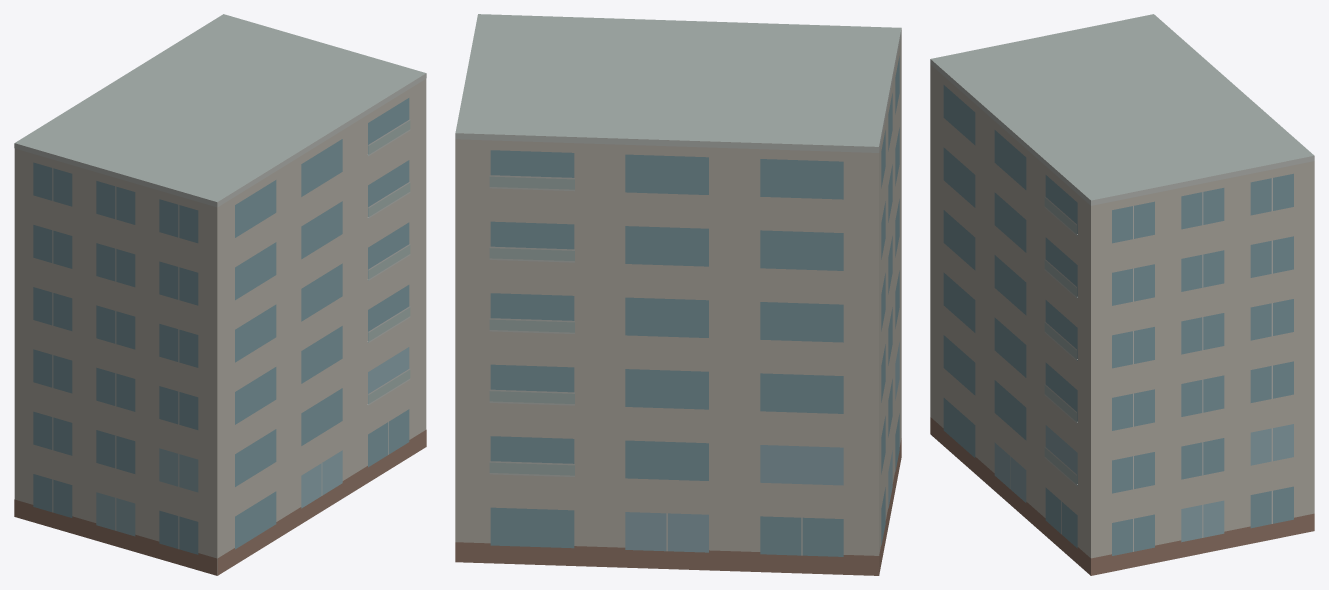
File: survey-upis-32705144.glb
3 views of the same model, side by side, from view 1: azimuth 30°, elevation 25°; view 2: azimuth 150°, elevation 25°; view 3: azimuth 270°, elevation 25° (orthographic). The views are drawn at different scales.
Parts seen in each view (by area): view 1: survey-upis-32705144.tmp; view 2: survey-upis-32705144.tmp; view 3: survey-upis-32705144.tmp.
Part boxes in pixels (x1,y1,x2,y2): survey-upis-32705144.tmp: (14, 14, 426, 575); survey-upis-32705144.tmp: (455, 14, 901, 575); survey-upis-32705144.tmp: (930, 14, 1314, 575).
Size of the model in its own units: 18.24 by 17.1 by 15.87.
